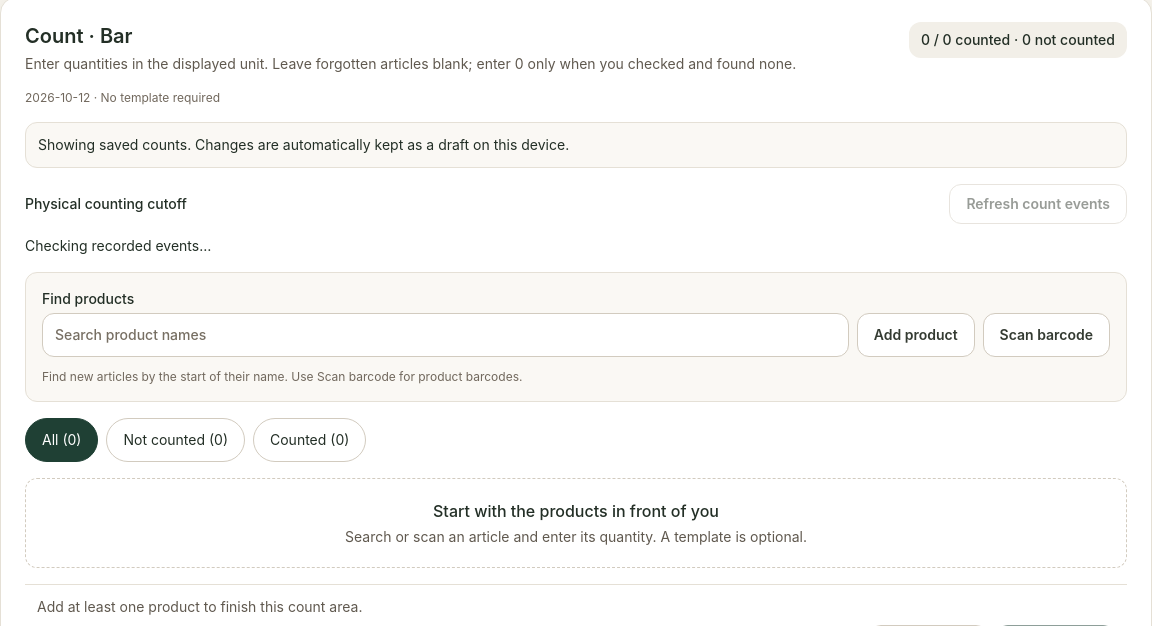
Scenario: looks through every barcode page before deciding whether a match is unique
Click the button "Scan barcode": (1046, 335) [983, 313, 1110, 357]
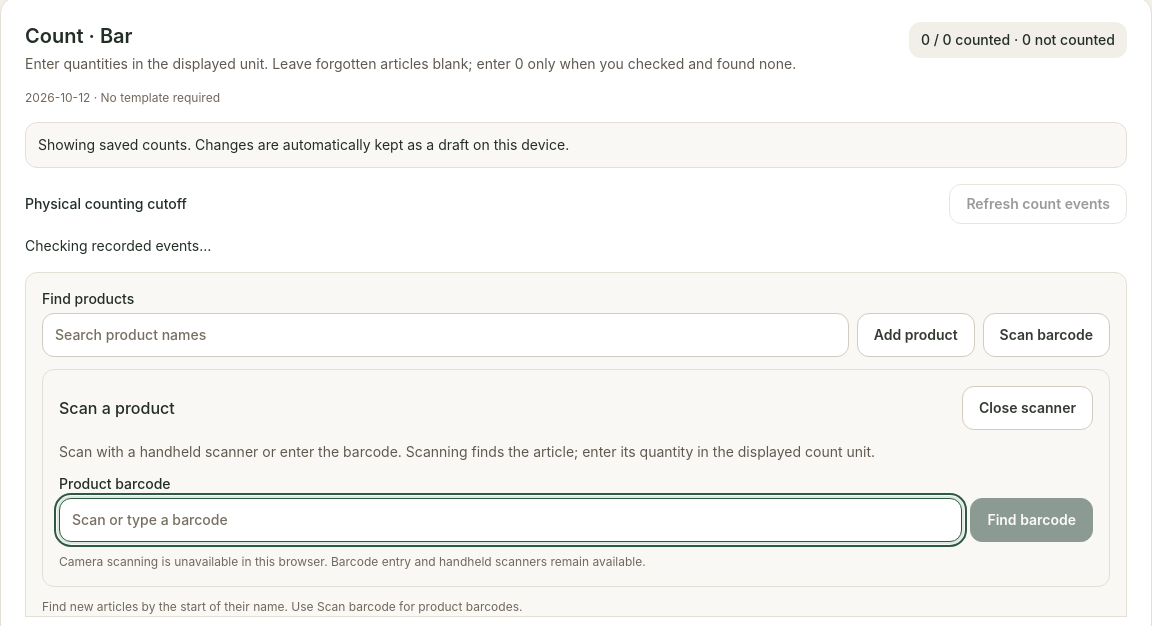
In the field labelled "Product barcode": (511, 520) [59, 498, 962, 542], type "000123"
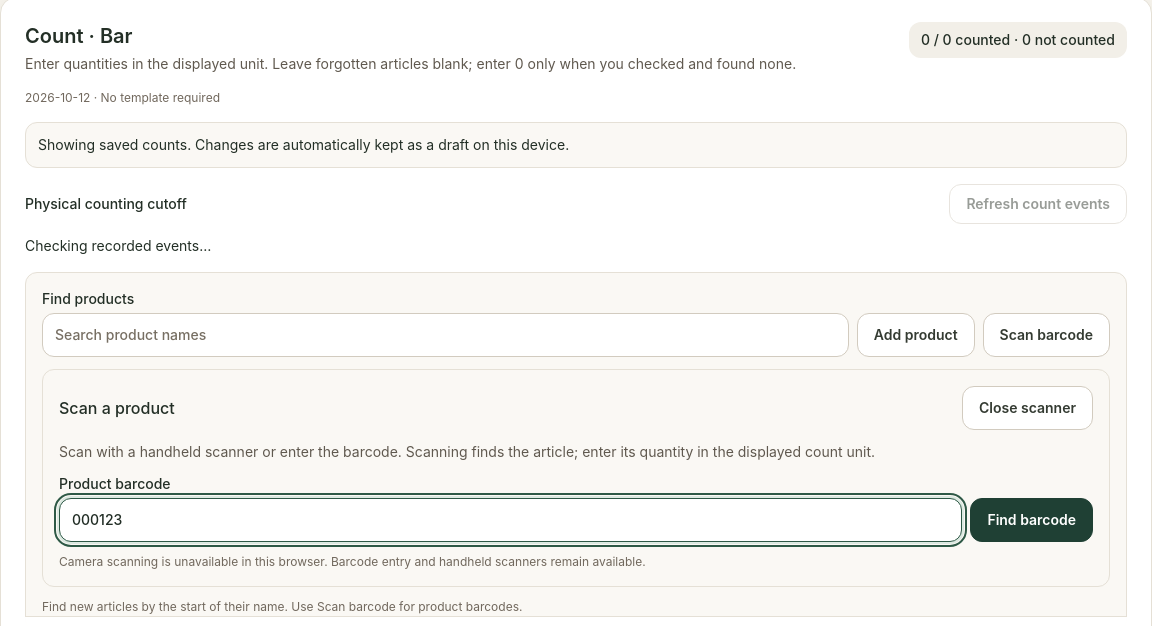
Click the button "Find barcode": (1032, 520) [970, 498, 1093, 542]
(page scrolled)
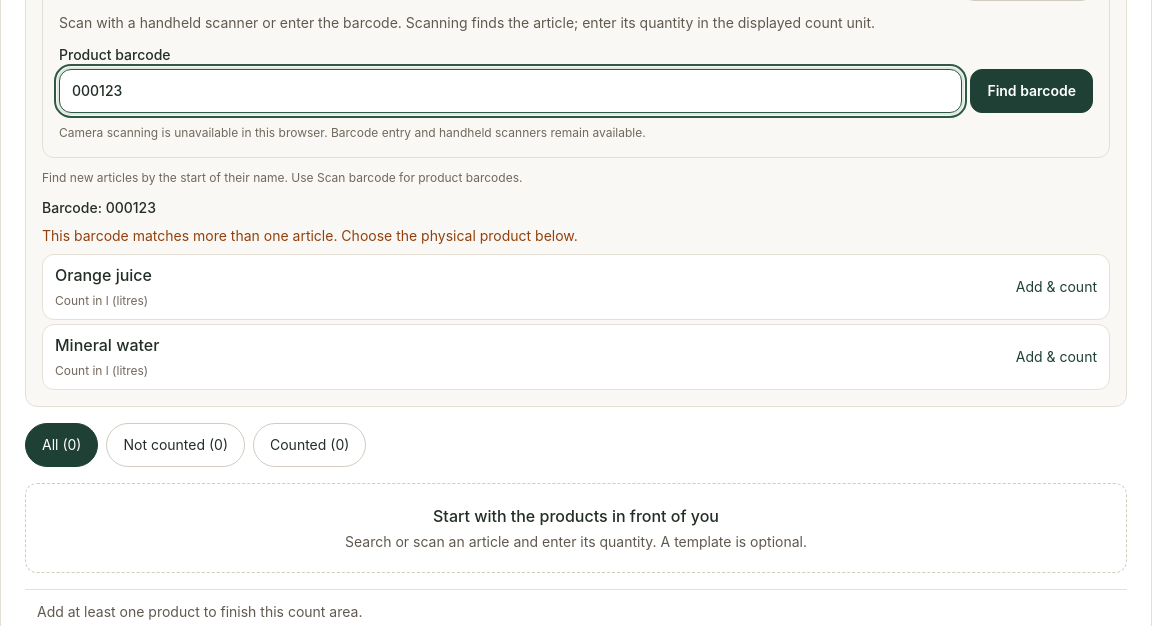
Expected: the text "This barcode matches more than one article. Choose the physical product below." is shown, [42, 227, 578, 244]
Click the button "Mineral water Count in l (litres) Add & count": (107, 345) [42, 324, 1110, 390]
(page scrolled)
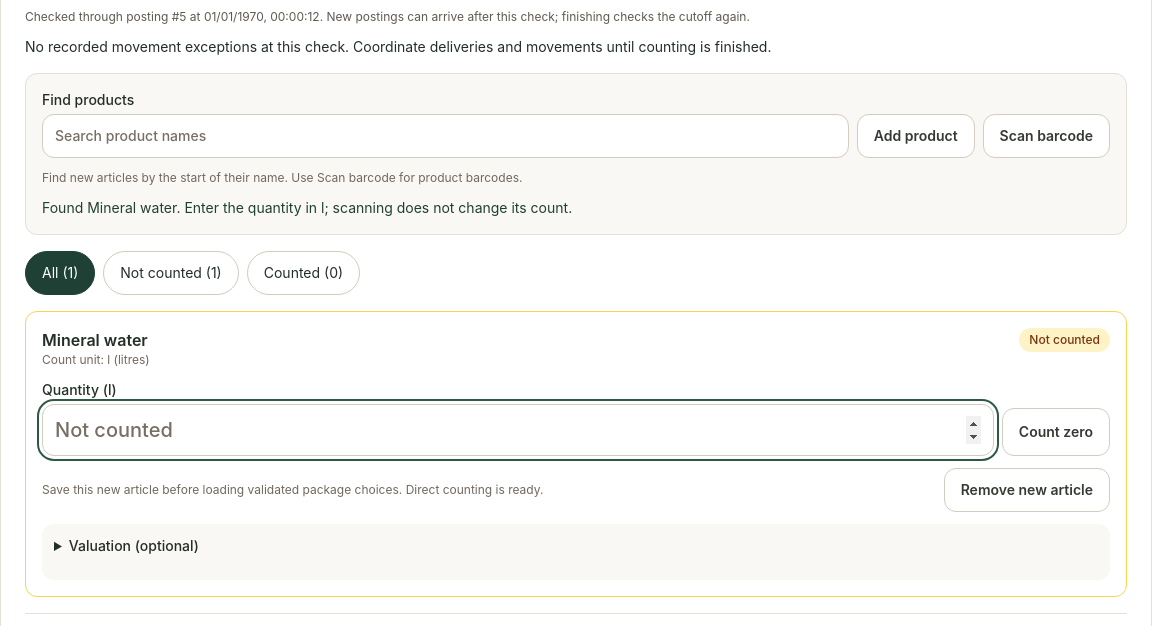
Expected: the number field named "Count Mineral water" is not empty, [42, 404, 994, 456]
